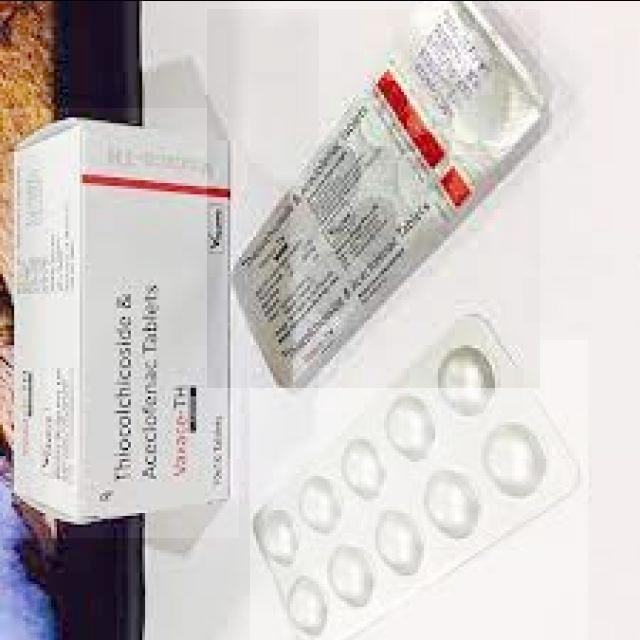authentic: (207, 8, 540, 387), (250, 339, 588, 640), (3, 107, 239, 537)
